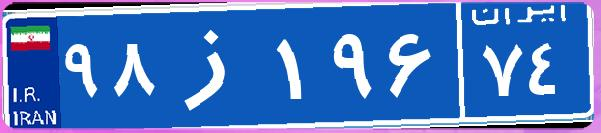1: (273, 28, 330, 110)
4: (525, 38, 570, 115)
6: (385, 28, 445, 110)
7: (475, 38, 525, 113)
8: (110, 28, 158, 105)
9: (330, 28, 385, 110), (57, 26, 110, 107)
ز: (158, 15, 273, 115)
